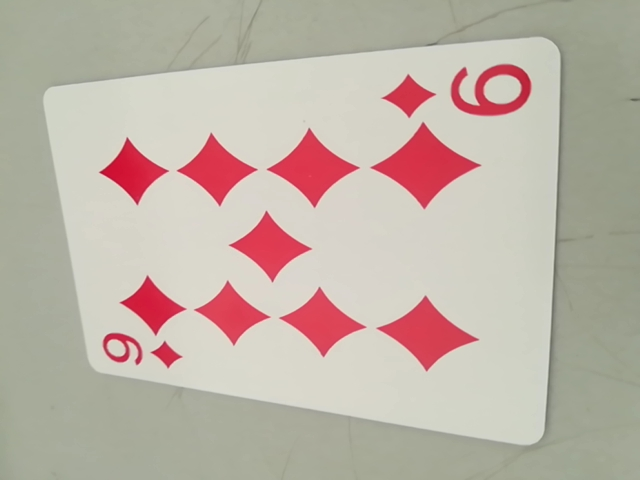fk 9: (385, 56, 538, 132), (95, 326, 189, 376)
